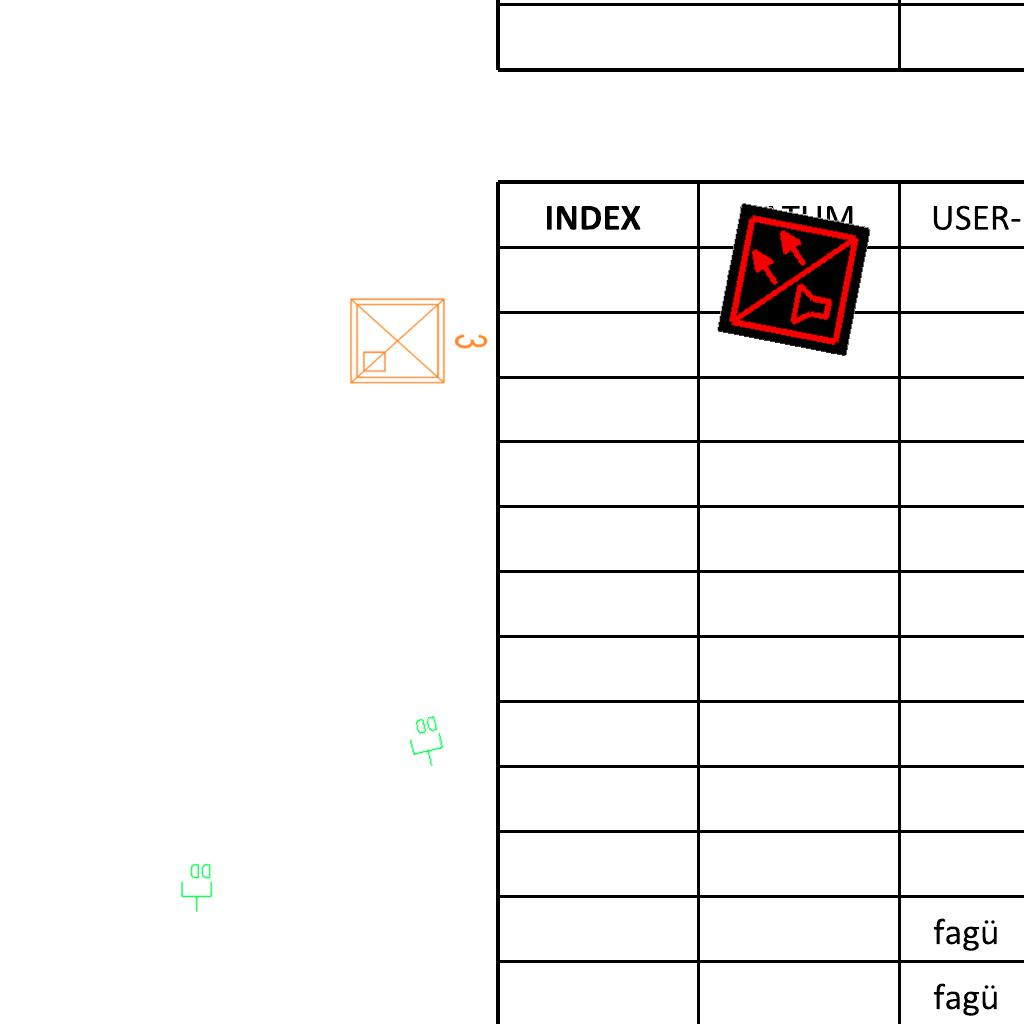Datenanschluss_zweifach: (404, 713, 449, 771), (180, 862, 214, 913)
Einbaudownlights_LED_Konferenzraeume: (343, 287, 493, 391)
OKW_Multisensormelder_(Kombination_optischer_Rauch-Kahlenmonoxid_Waerme-Melder): (716, 201, 872, 357)
